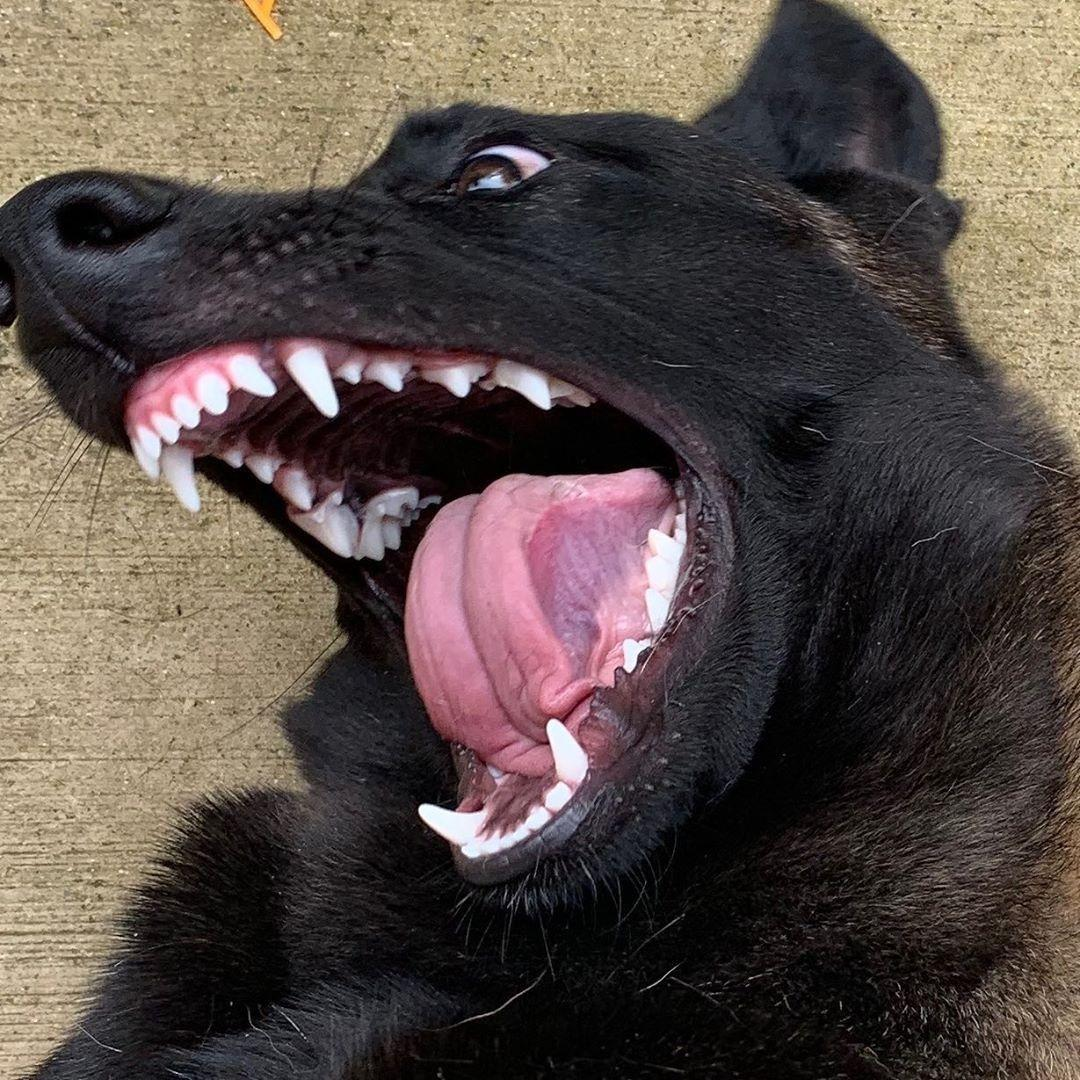adult_dog: (1, 1, 1080, 1080)
